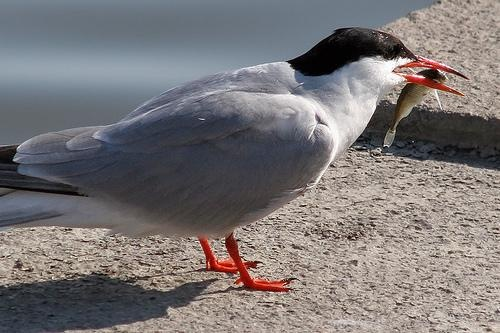bird: (1, 29, 468, 291)
